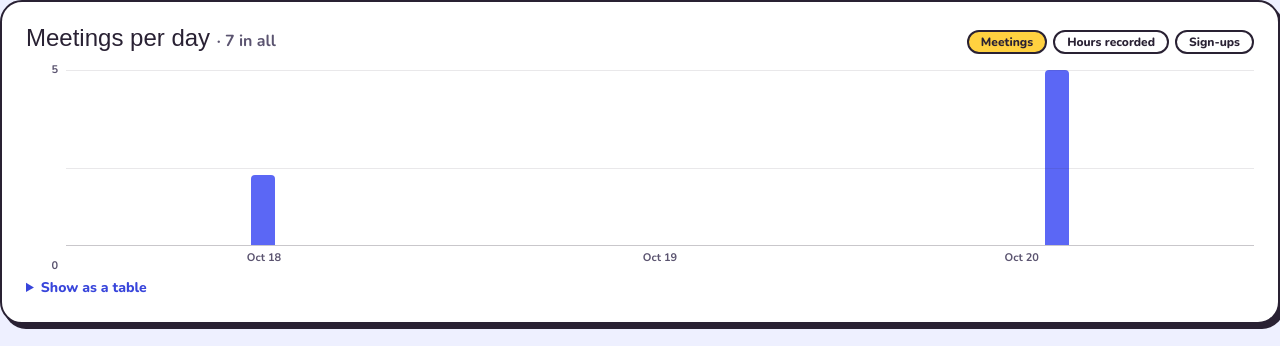
Scenario: DailyChart › plots one measure, shows a day on hover and focus, and has the numbers as a table
Expected: the heading "Meetings per day · 7 in all" is shown, [26,26,276,53]
Hover over the list item named "Tue, Oct 20: 5 meetings": coordinates (1057, 158) [859,70,1254,245]
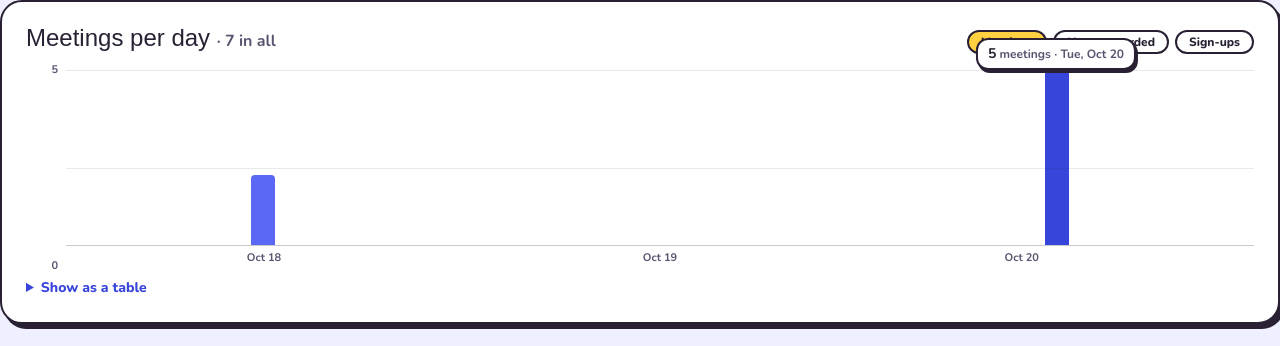
Expected: the tooltip shows "5 meetings", [976,38,1136,70]
Move the pointer off the list named "Meetings per day", box [66,70,1254,246]
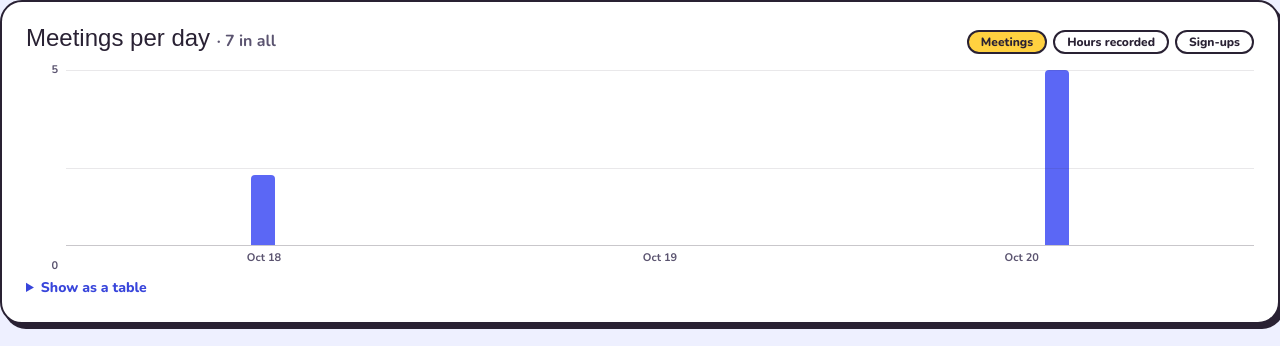
Expected: the tooltip "5 meetings · Tue, Oct 20" is gone
Click the button "Hours recorded": coordinates (1111, 42) [1053,30,1169,54]
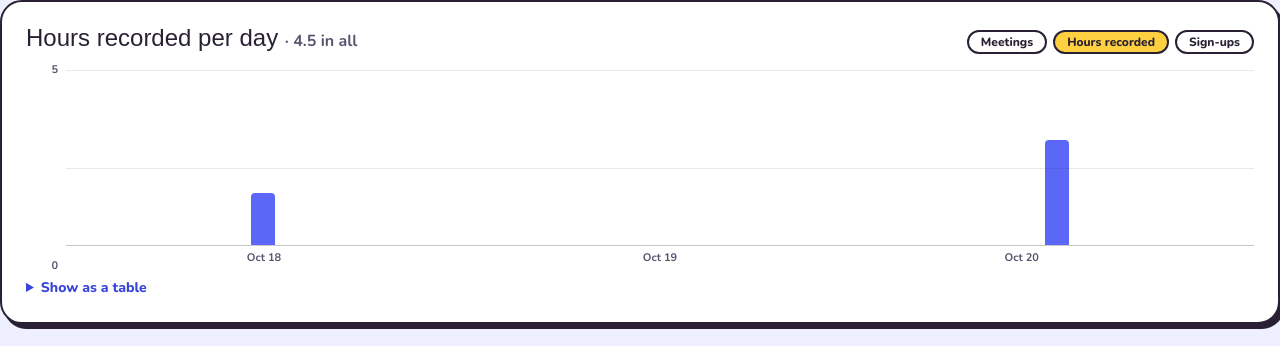
Focus the list item named "Sun, Oct 18: 1.5 hours": coordinates (263, 219) [66,70,461,245]
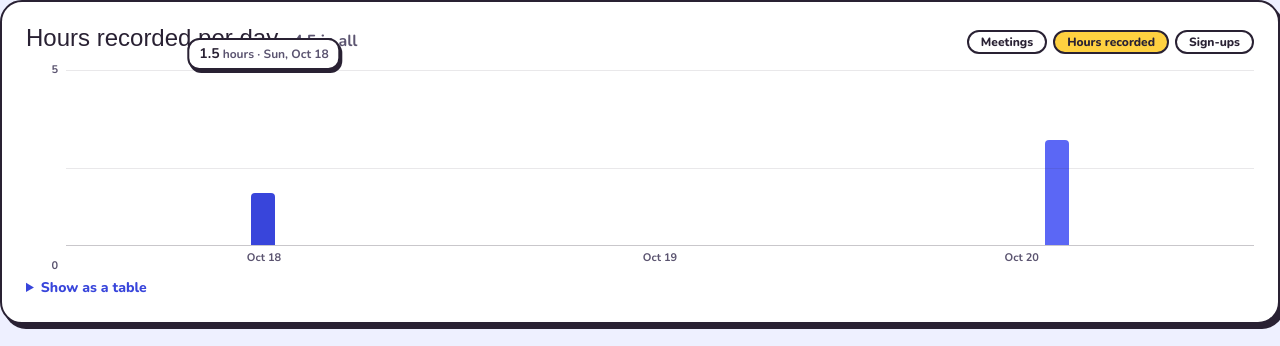
Expected: the tooltip shows "1.5 hours", [187,38,341,70]
